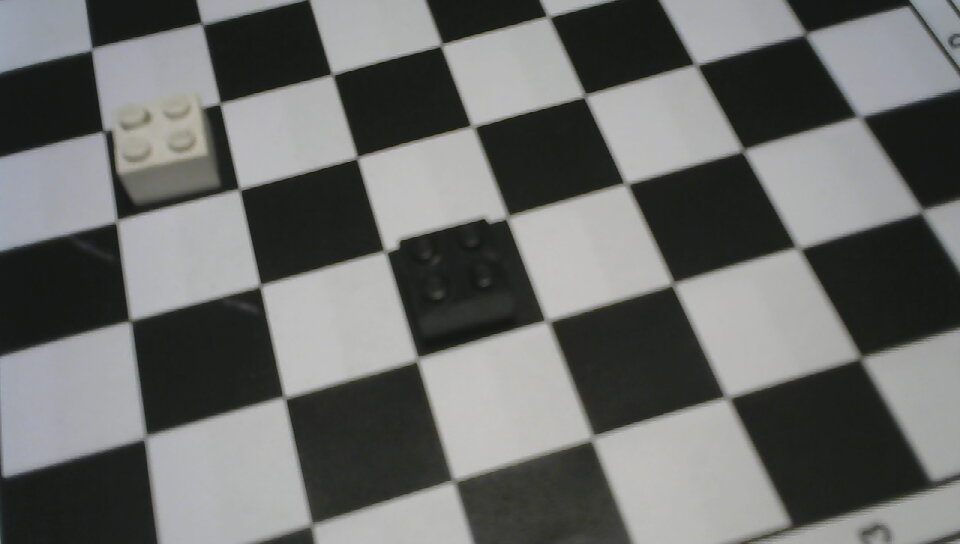bp: (394, 213, 529, 345)
